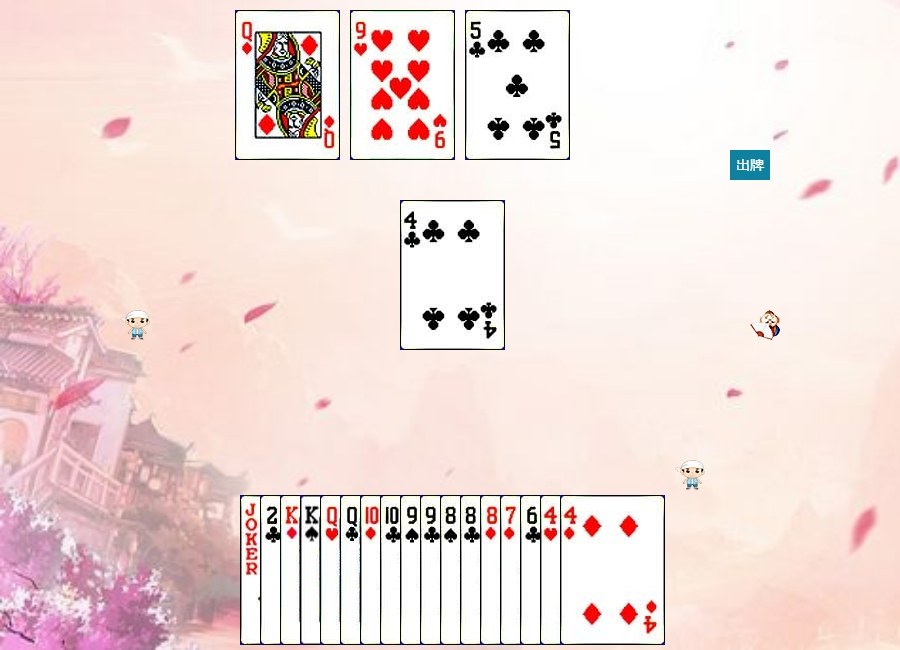10~1: (360, 495, 465, 645)
10~2: (380, 495, 485, 645)
12~1: (235, 10, 340, 160)
12~2: (340, 495, 445, 645)
12~3: (320, 495, 425, 645)
13~1: (280, 495, 385, 645)
13~4: (300, 495, 405, 645)
15~2: (260, 495, 365, 645)
18~4: (240, 495, 345, 645)
4~1: (560, 495, 665, 645)
4~2: (400, 200, 505, 350)
4~3: (540, 495, 645, 645)
5~2: (465, 10, 570, 160)
6~2: (520, 495, 625, 645)
7~1: (500, 495, 605, 645)
8~1: (480, 495, 585, 645)
8~2: (460, 495, 565, 645)
8~4: (440, 495, 545, 645)
9~2: (420, 495, 525, 645)
9~3: (350, 10, 455, 160)
9~4: (400, 495, 505, 645)
